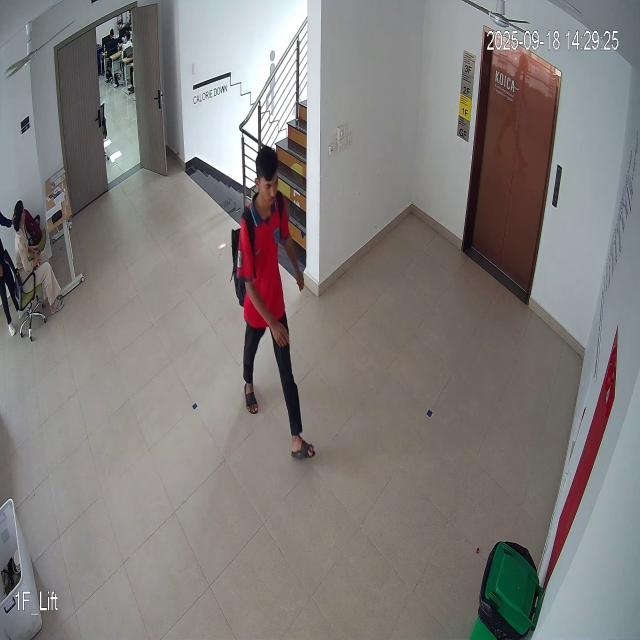face: (256, 144, 282, 209)
